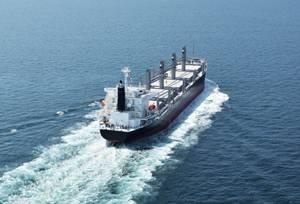Cargoship: (98, 41, 209, 142)
